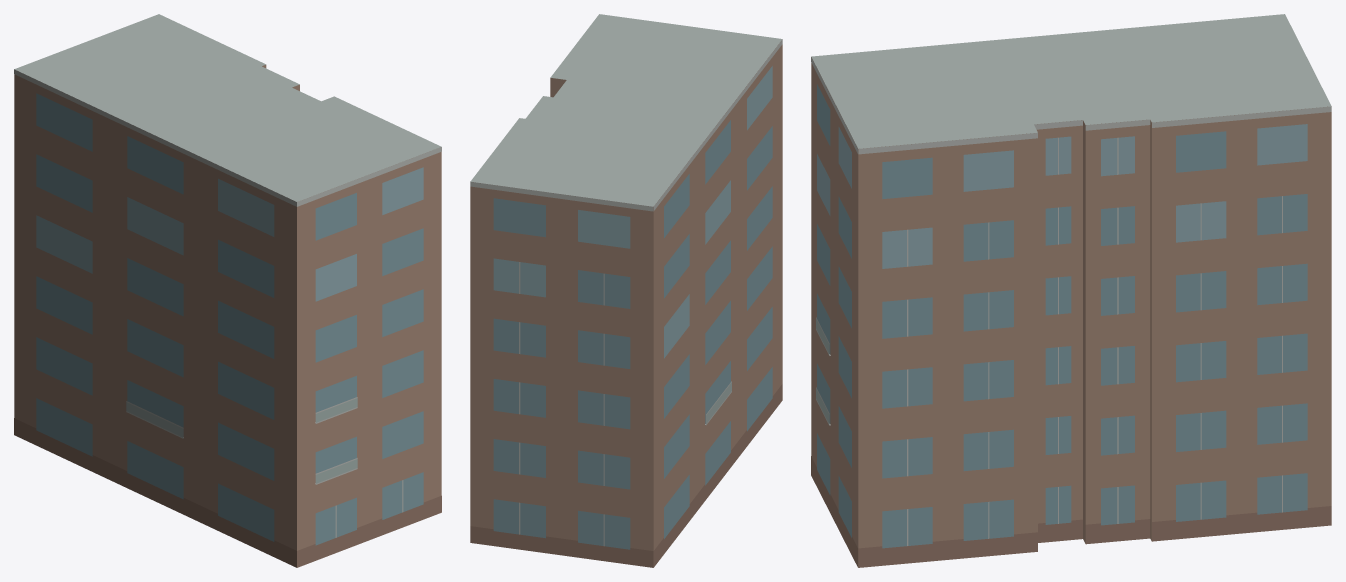
File: survey-upis-32707538.glb
The picture shows the model from 3 angles, left to right: view 1: azimuth 30°, elevation 25°; view 2: azimuth 150°, elevation 25°; view 3: azimuth 270°, elevation 25°; orthographic projection. The views are drawn at different scales.
Visible parts, largest first — view 1: survey-upis-32707538.tmp; view 2: survey-upis-32707538.tmp; view 3: survey-upis-32707538.tmp.
Boxes of the visible parts, x1,y1,x2,y2 form: survey-upis-32707538.tmp: (14, 14, 441, 567); survey-upis-32707538.tmp: (470, 14, 782, 567); survey-upis-32707538.tmp: (811, 14, 1331, 567).
Bounding box in the file's own units: 12.64 × 18.3 × 20.61.
